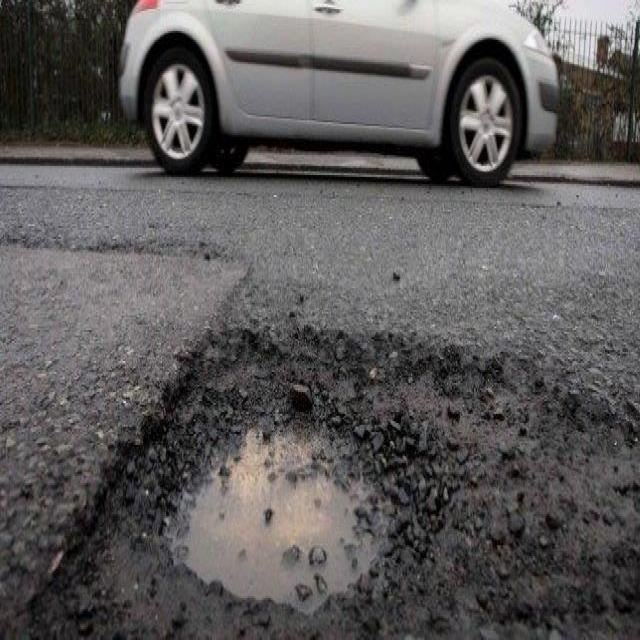lubang: (94, 323, 636, 638)
